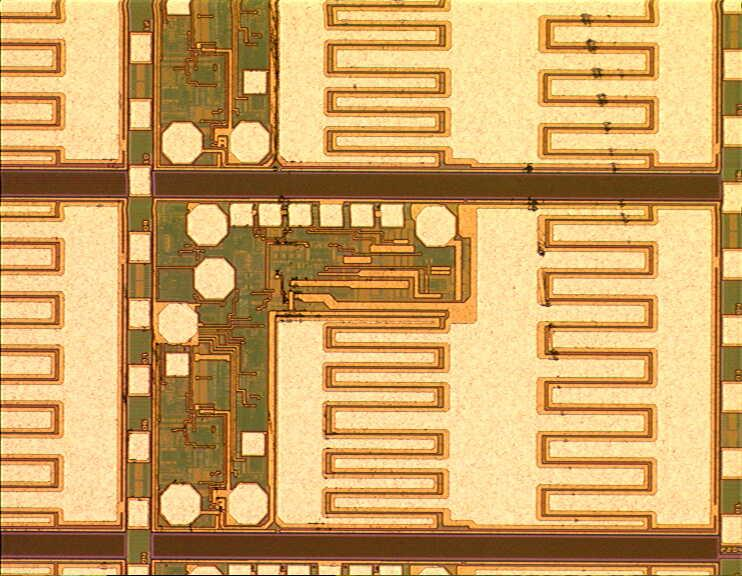SCRATCH: (486, 7, 653, 576), (267, 149, 479, 330)
